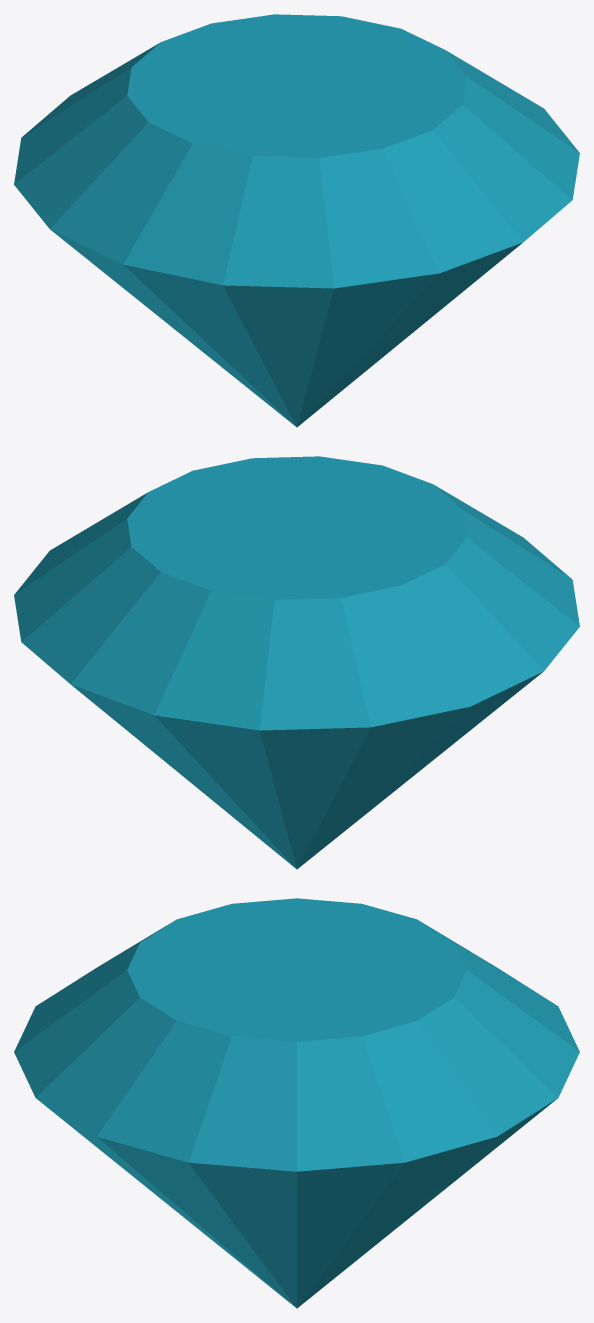
File: diamond_source.glb
3 renders of one model, top to bottom at view 1: azimuth 30°, elevation 25°; view 2: azimuth 150°, elevation 25°; view 3: azimuth 270°, elevation 25°, orthographic.
Parts seen in each view (by area): view 1: Diamond.002; view 2: Diamond.002; view 3: Diamond.002.
Part boxes in pixels (x1,y1,x2,y2): Diamond.002: (14,14,579,427); Diamond.002: (14,456,579,869); Diamond.002: (14,898,579,1308).
Bounding box in the file's own units: 2 × 1.32 × 2.
